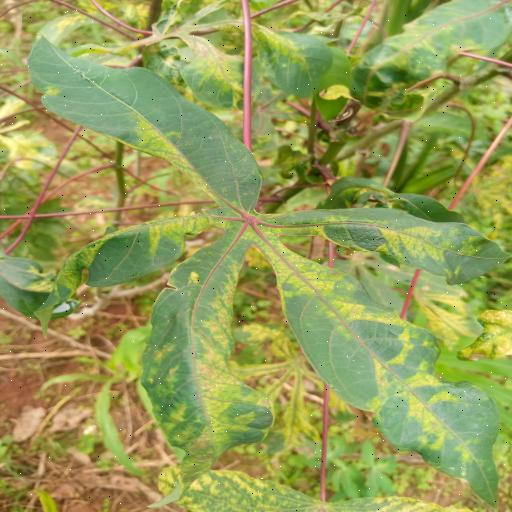Cassava_Mosaic: (23, 38, 512, 510)
